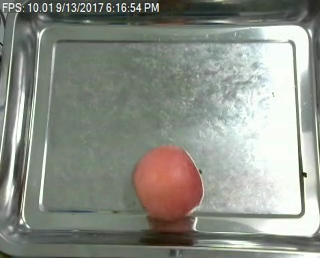Apple: (130, 144, 205, 224)
